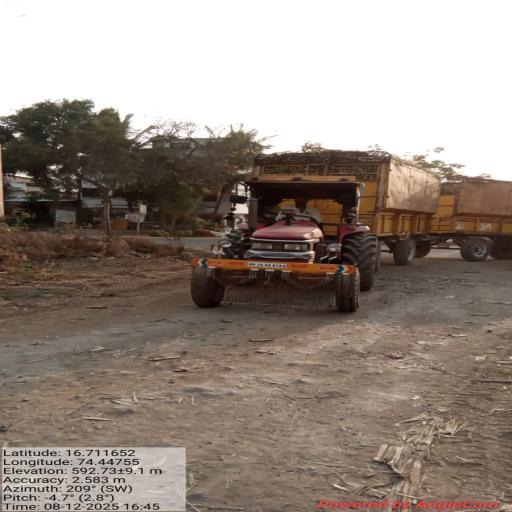number_plate: (218, 254, 321, 283)
